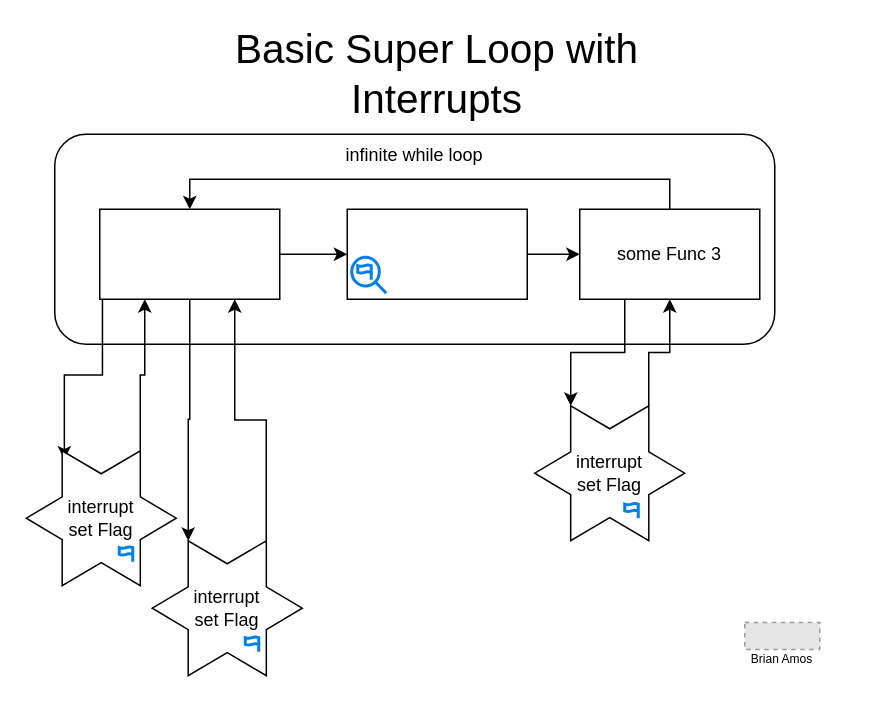
Image size: 891x707. Some labels were removed from this diagram. Grey dashed boxes stand in for pictures. The box of each missing label's shape, as (x1, y1, x2, y2) in pixels:
some Func 1: (98, 208, 280, 299)
some Func 2 checkFlag: (346, 208, 527, 299)
